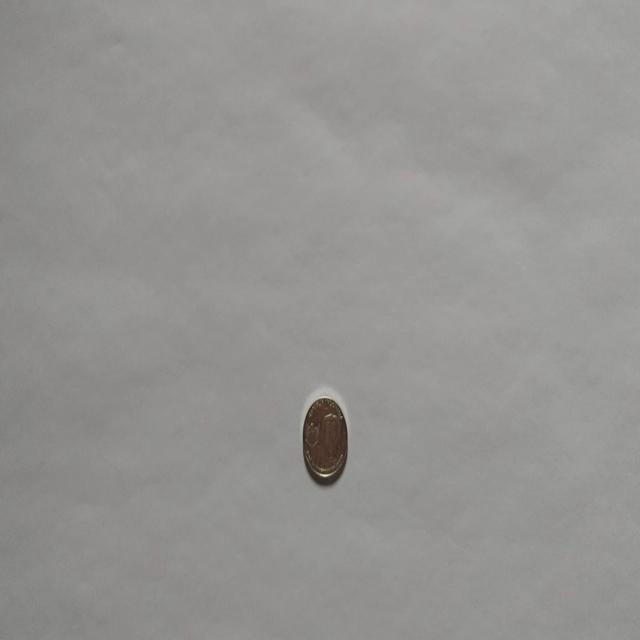seratus rupiah: (302, 394, 348, 482)
